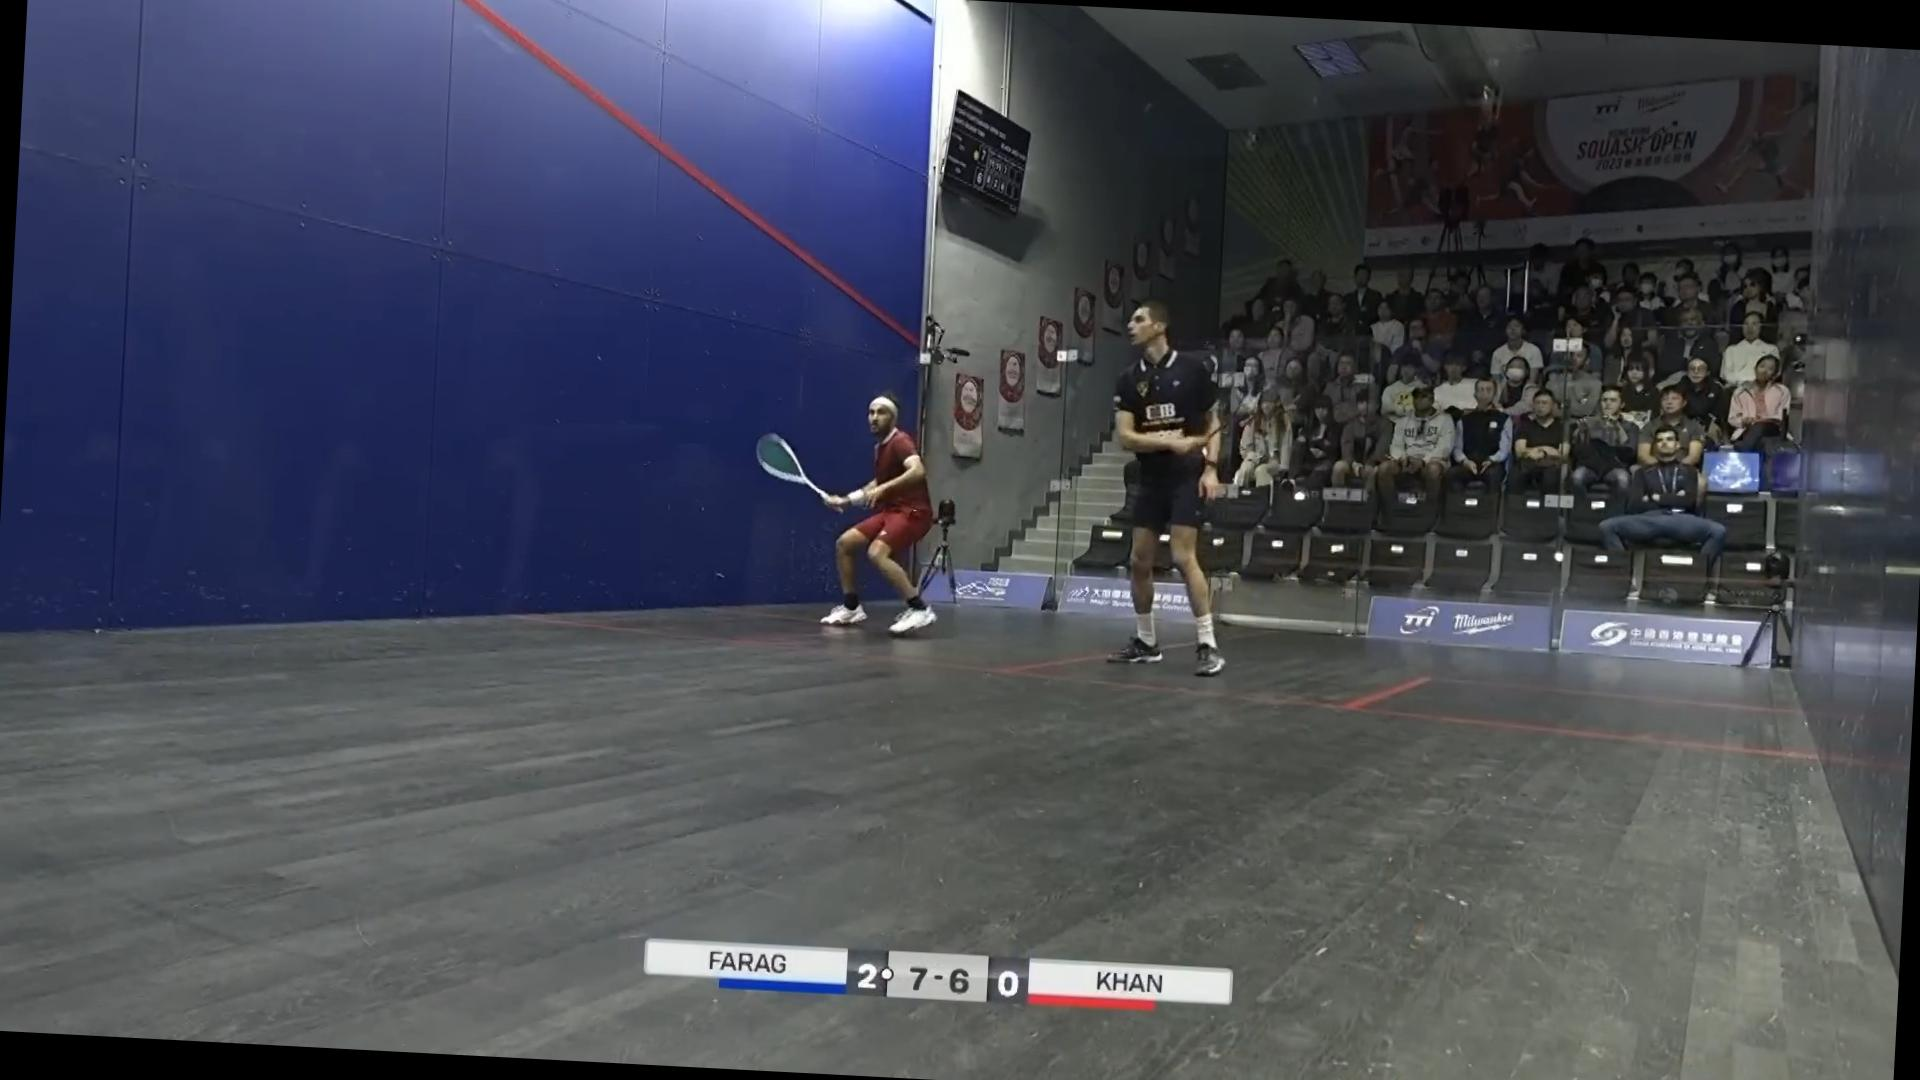Racket: (746, 405, 829, 500)
